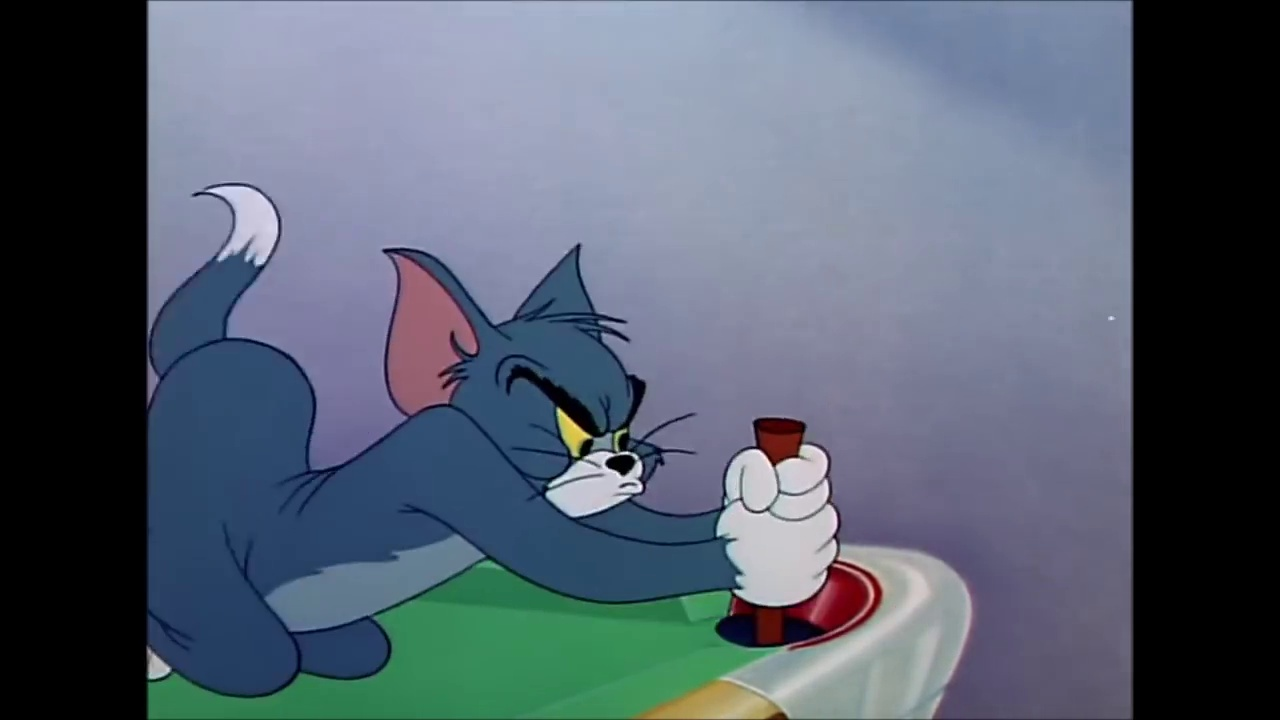angry: (498, 348, 648, 521)
